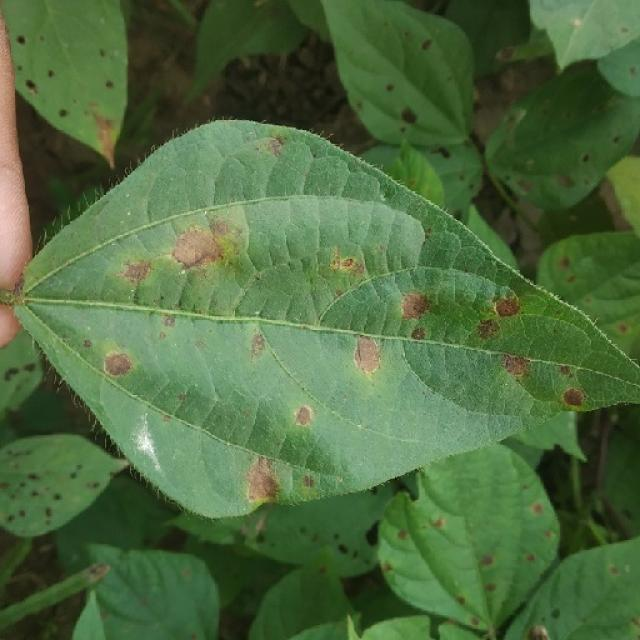Anthracnose: (171, 227, 225, 269), (345, 329, 385, 379), (245, 454, 280, 503), (91, 111, 119, 166), (103, 350, 135, 378), (399, 291, 431, 319), (122, 260, 151, 283), (330, 254, 361, 274), (504, 356, 529, 379), (249, 331, 267, 362), (495, 296, 520, 317), (293, 405, 315, 427), (561, 388, 585, 407), (481, 555, 494, 566)
Blackgram: (16, 121, 639, 515)
